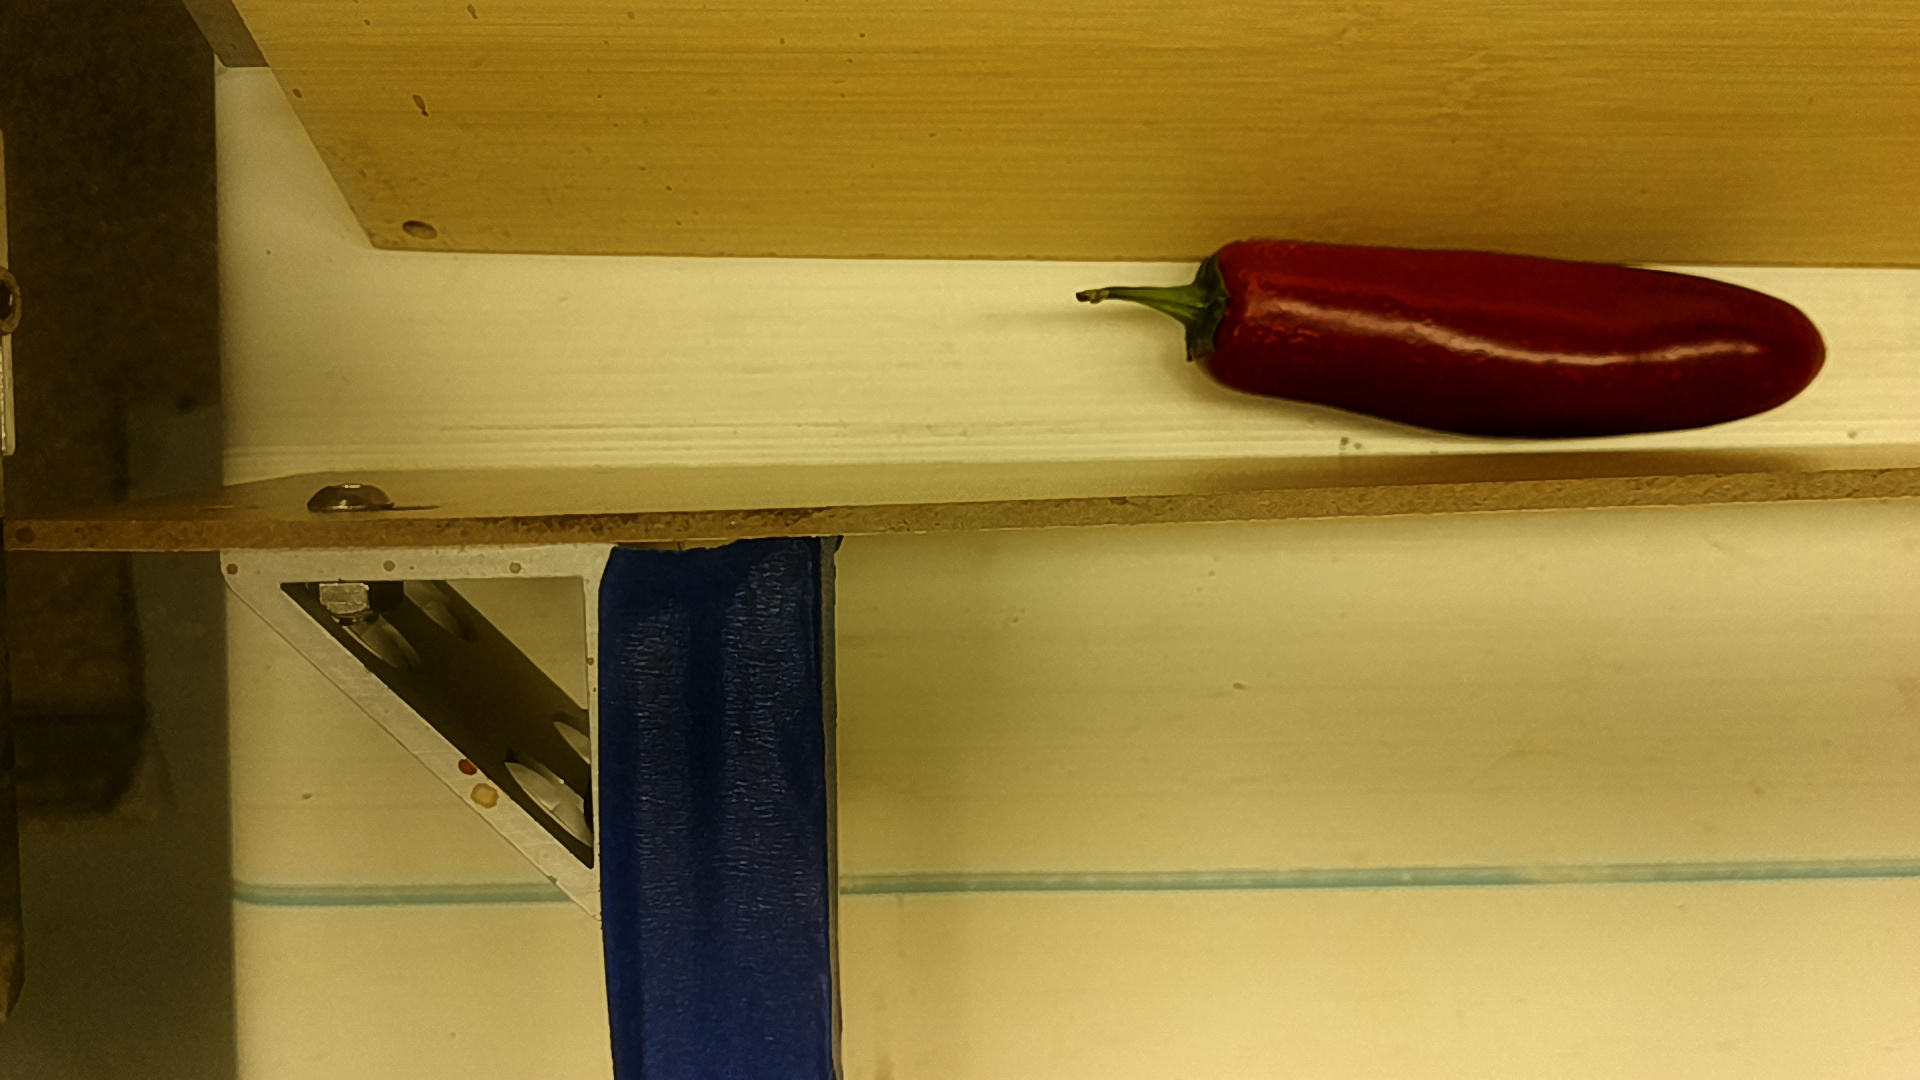Cut Point: (1172, 225, 1266, 398)
